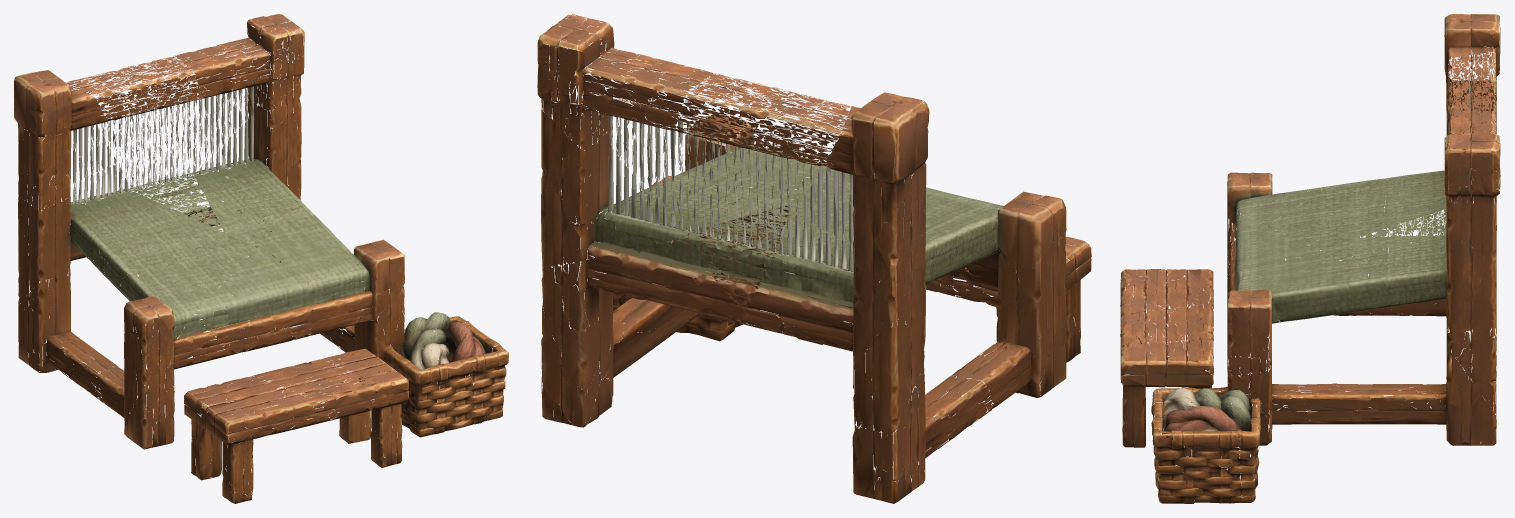
File: loom.glb
3 views of the same model, side by side, from view 1: azimuth 30°, elevation 25°; view 2: azimuth 150°, elevation 25°; view 3: azimuth 270°, elevation 25° (orthographic). The views are drawn at different scales.
Parts seen in each view (by area): view 1: tripo_node_971277ca-e4b8-4868-8260-71ef4043c18a; view 2: tripo_node_971277ca-e4b8-4868-8260-71ef4043c18a; view 3: tripo_node_971277ca-e4b8-4868-8260-71ef4043c18a.
Boxes of the visible parts, <box> form: tripo_node_971277ca-e4b8-4868-8260-71ef4043c18a: <box>14,14,508,503</box>; tripo_node_971277ca-e4b8-4868-8260-71ef4043c18a: <box>537,14,1091,503</box>; tripo_node_971277ca-e4b8-4868-8260-71ef4043c18a: <box>1120,14,1500,503</box>.
Size of the model in its own units: 0.9813 by 0.8649 by 0.9122.
Materials: 1 (1 with a texture image).
